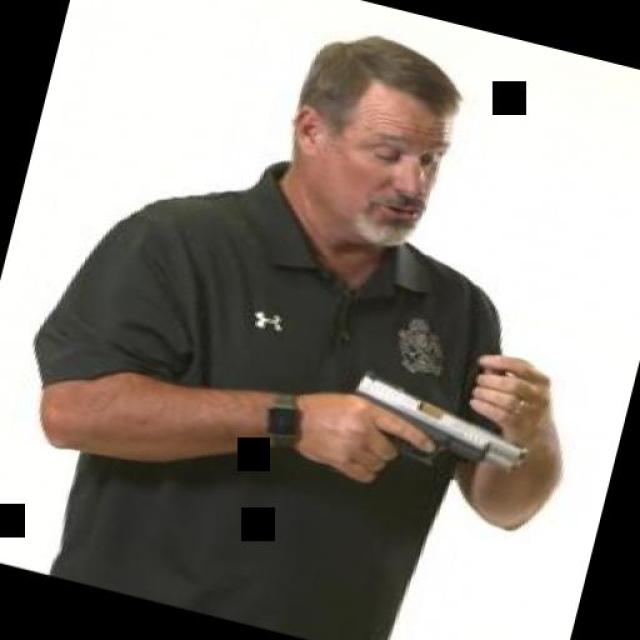gun: (311, 365, 541, 520)
